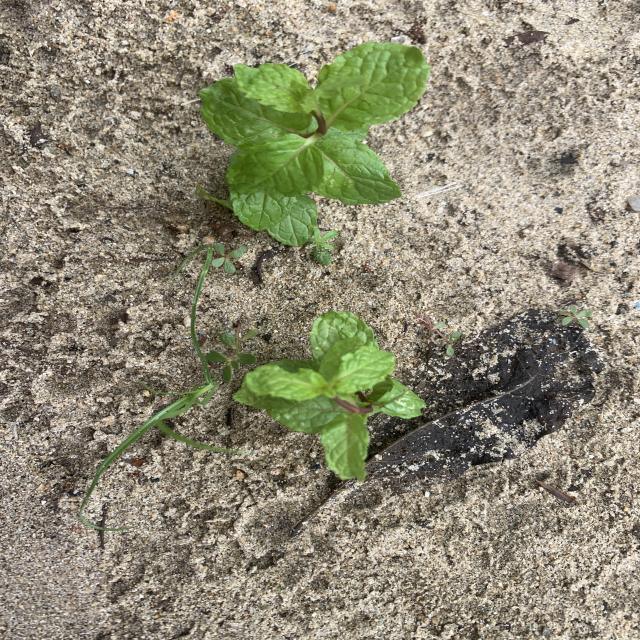crop: (200, 42, 430, 246), (234, 312, 425, 480)
weed: (79, 246, 218, 548), (204, 330, 258, 382), (211, 243, 248, 275), (432, 322, 463, 357), (561, 303, 593, 329), (316, 230, 337, 250)
